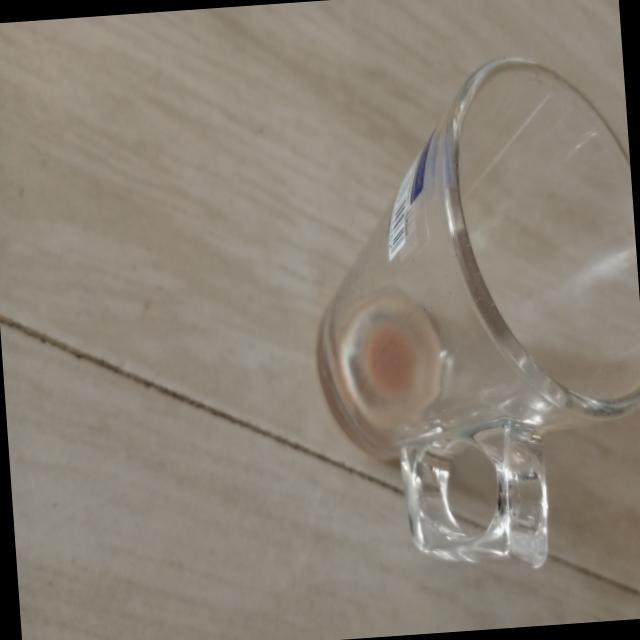glass-VX4N: (293, 53, 640, 576)
